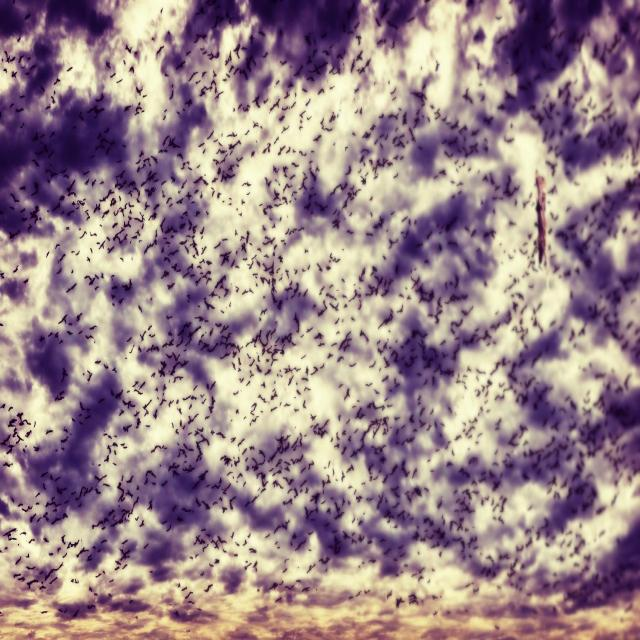airplane: (1, 0, 639, 638), (534, 167, 547, 266)
